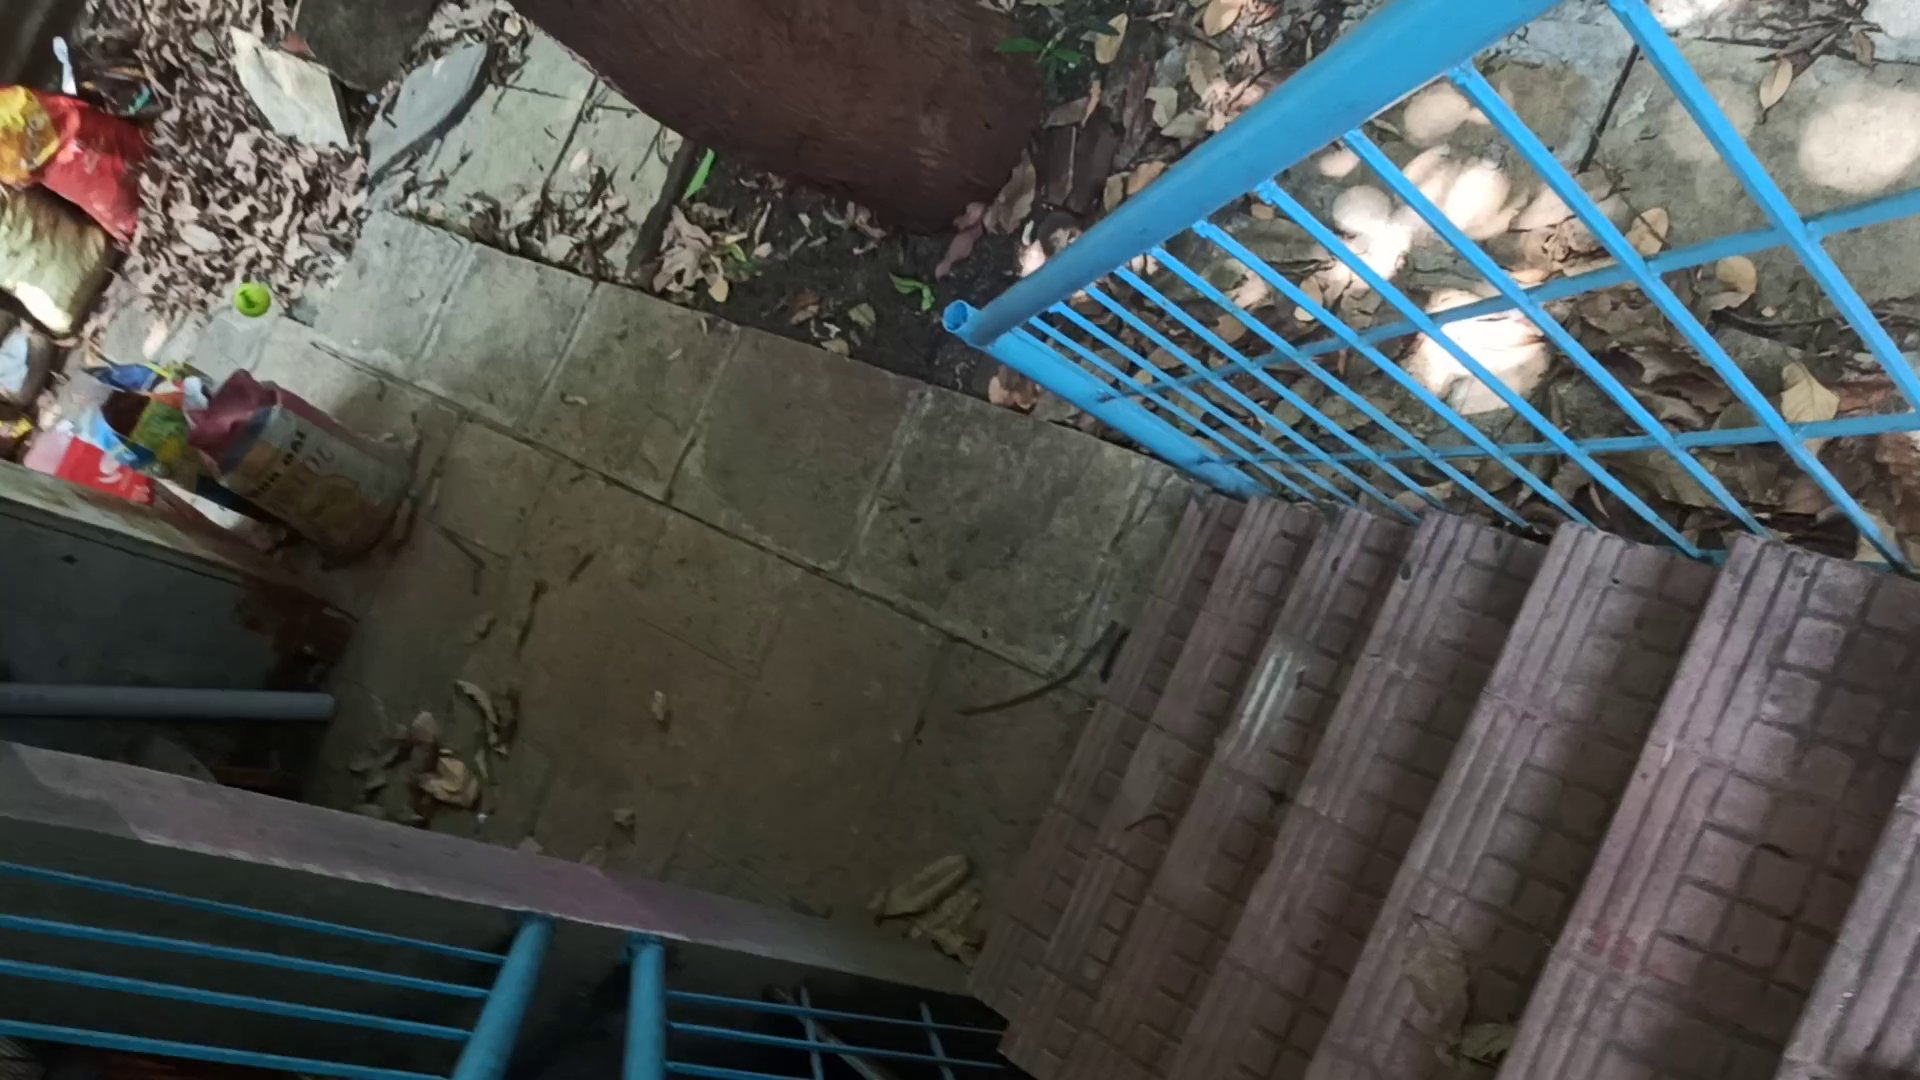Tennis-Ball: (233, 284, 272, 316)
